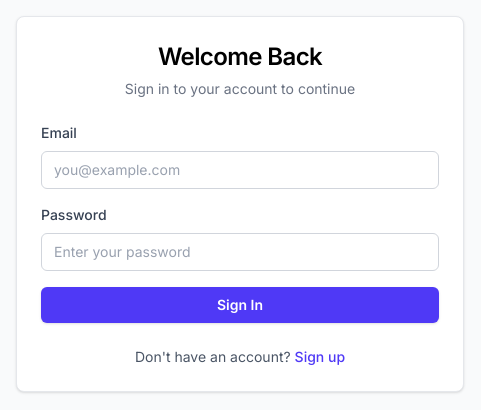
Test: LoginPage › shows loading state during submission
Type "test@example.com" into the field labelled "Email".
click(240, 170); type("test@example.com")  # box 41,151 -> 439,189
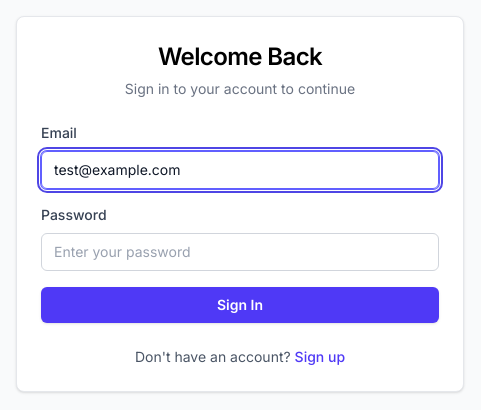
Type "password123" into the password field labelled "Password".
click(240, 252); type("password123")  # box 41,233 -> 439,271
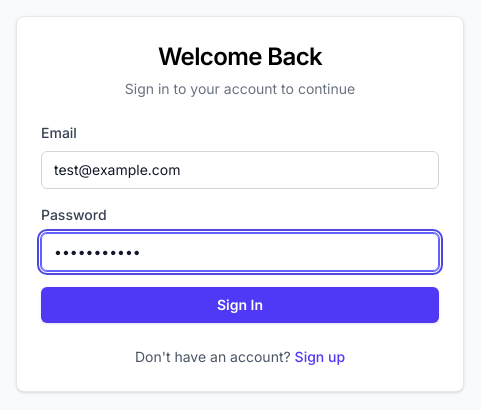
Click the button "Sign In".
click(240, 305)  # box 41,287 -> 439,323
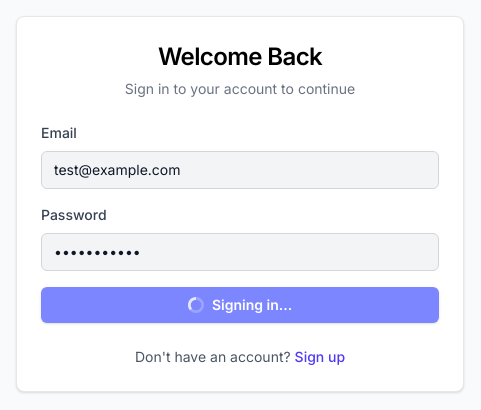
Expected: the text "Signing in..." is shown, 188,296 -> 292,313
Expected: the button is disabled, 41,287 -> 439,323
